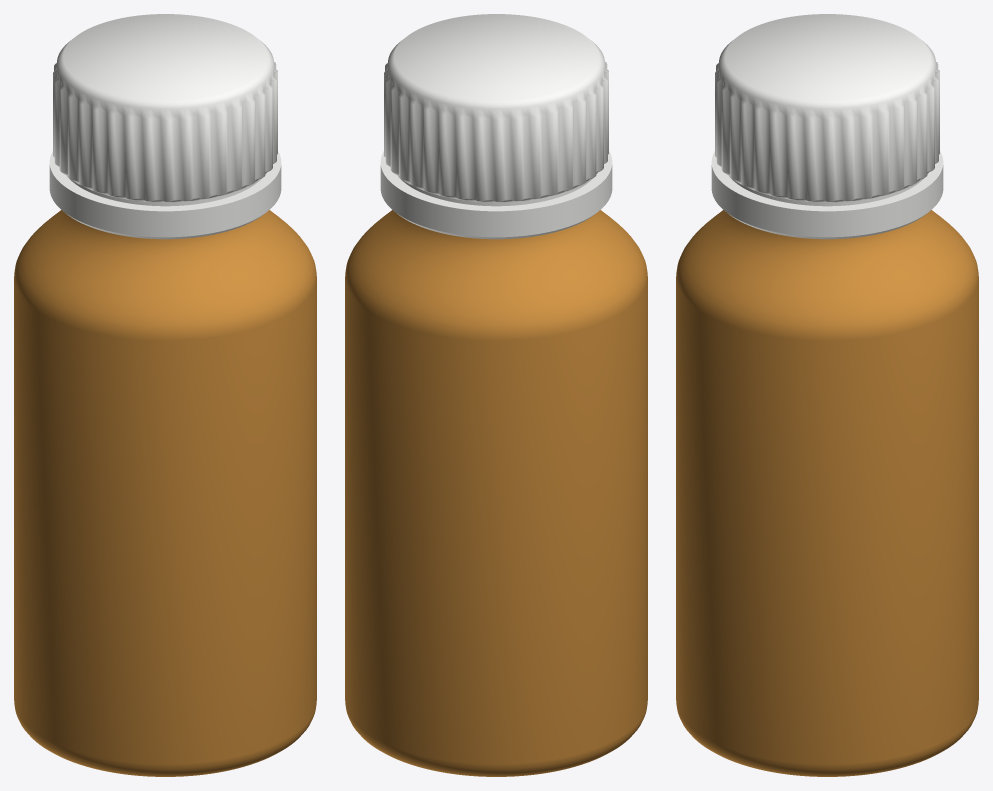
Rendered from amber_bottle_050ml.glb.
3 renders of one model, left to right at view 1: azimuth 30°, elevation 25°; view 2: azimuth 150°, elevation 25°; view 3: azimuth 270°, elevation 25°, orthographic.
Parts seen in each view (by area): view 1: Bottle_050ml, Cap_050ml_PP25; view 2: Bottle_050ml, Cap_050ml_PP25; view 3: Bottle_050ml, Cap_050ml_PP25.
Boxes of the visible parts, x1,y1,x2,y2 form: Bottle_050ml: (14, 210, 316, 776); Cap_050ml_PP25: (49, 14, 281, 239); Bottle_050ml: (345, 210, 647, 776); Cap_050ml_PP25: (380, 14, 612, 239); Bottle_050ml: (676, 210, 978, 776); Cap_050ml_PP25: (711, 14, 943, 239).
Bounding box in the file's own units: 0.0376 × 0.091 × 0.0376.
